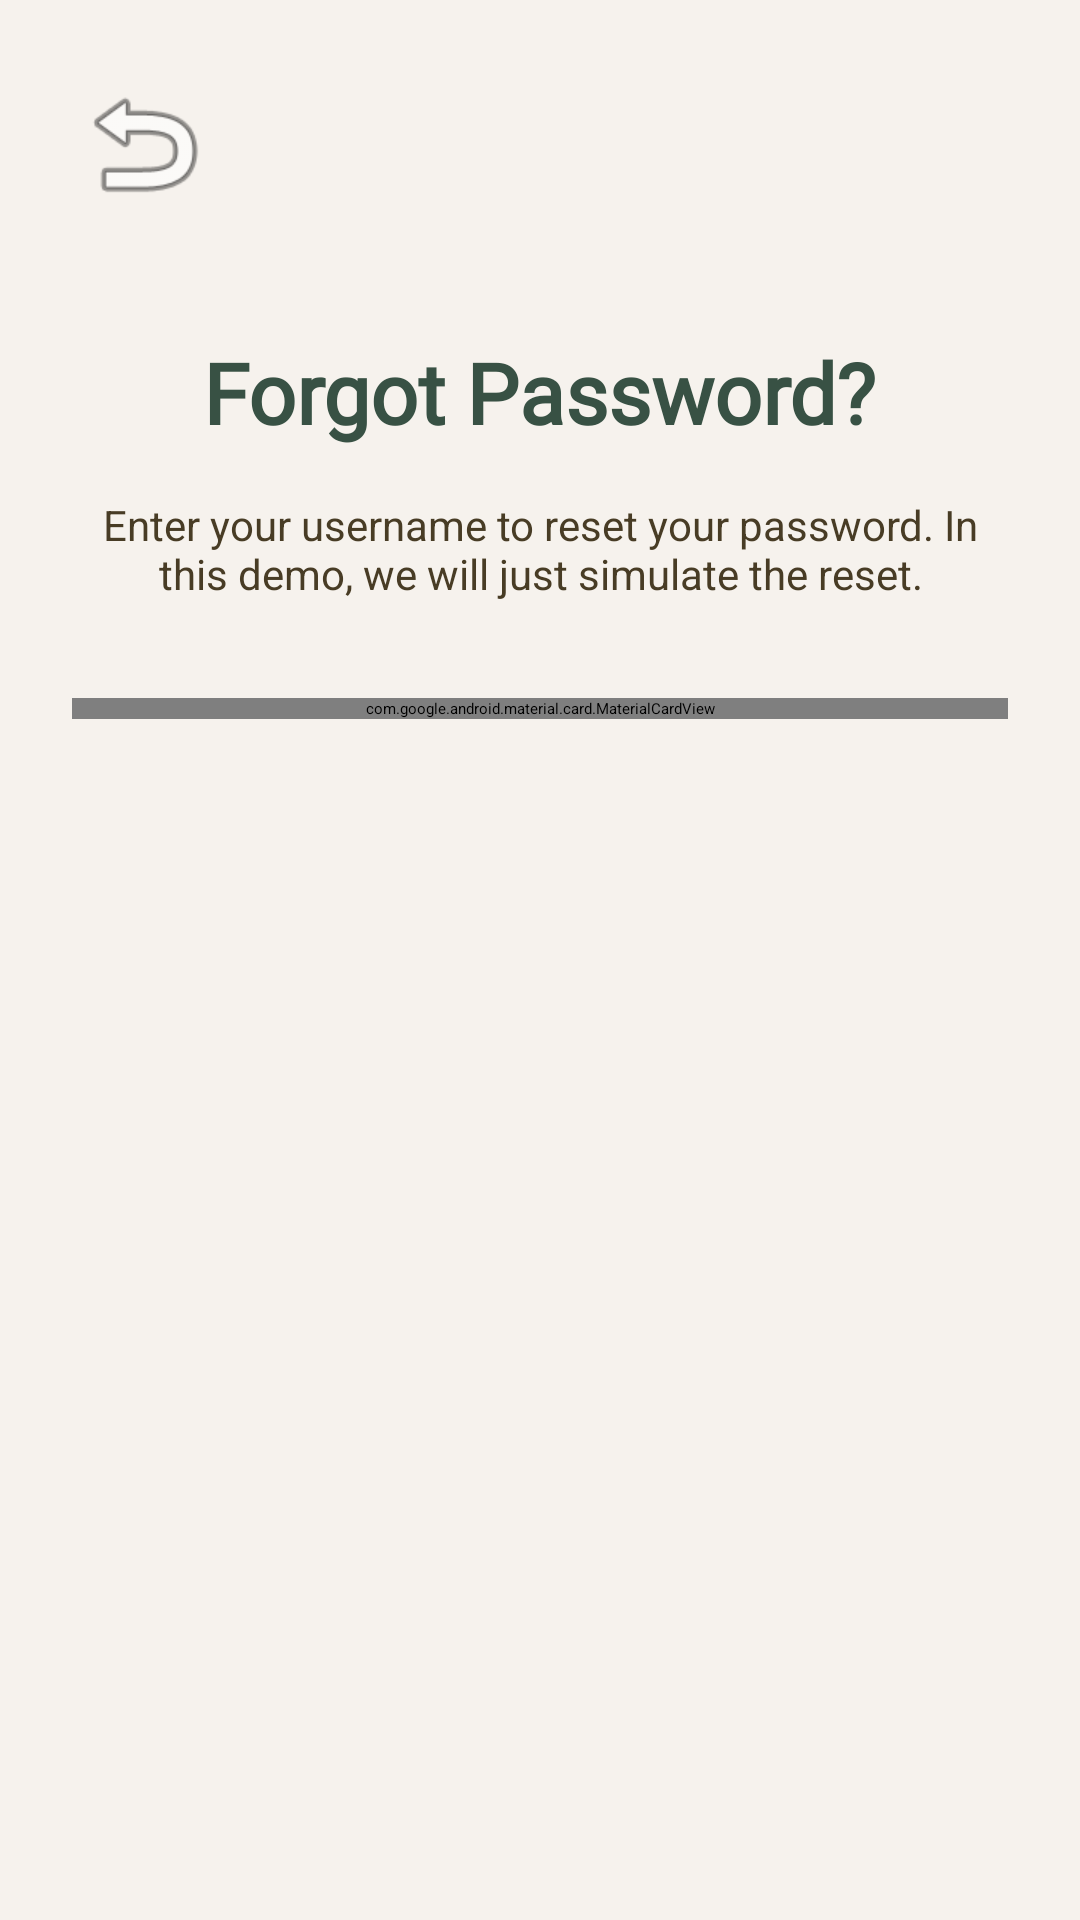

Screen size 1080w x 1920h. Icon name, then its center in pixels as [x,y]:
revert: [146,145]
